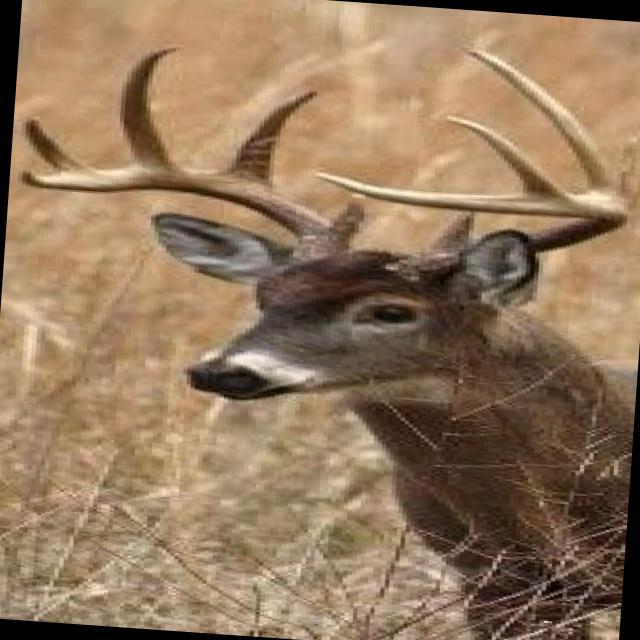L-G1: (426, 211, 479, 252)
L-G2: (619, 122, 640, 210)
L-G3: (465, 49, 619, 199)
L-G4: (445, 115, 572, 195)
R-F: (16, 168, 352, 266)
R-G1: (327, 194, 366, 241)
R-G2: (216, 87, 319, 192)
R-G3: (118, 46, 188, 172)
R-G4: (23, 115, 95, 171)
